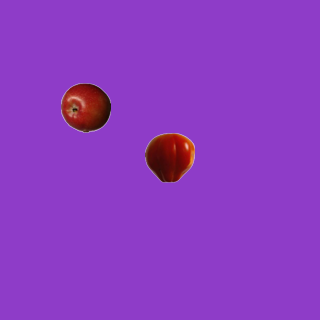Apple Braeburn: (60, 82, 110, 132)
Tomato 1: (144, 132, 194, 182)
